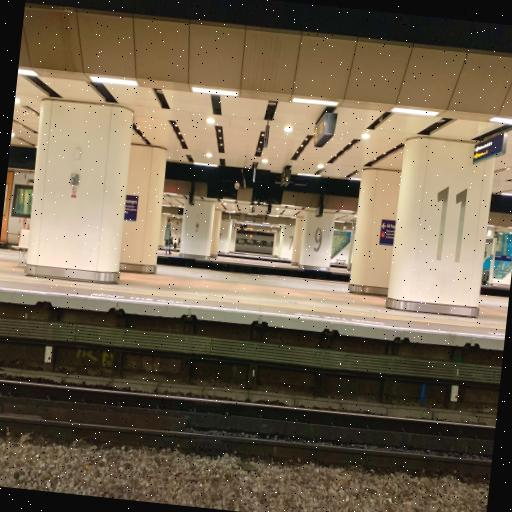platform_edge: (0, 256, 508, 371)
